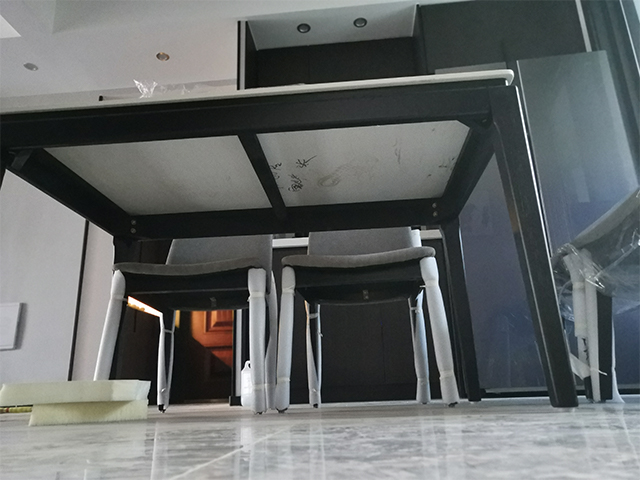stool: (91, 234, 277, 417), (275, 226, 461, 409), (548, 180, 640, 406)
table: (1, 68, 580, 409)
